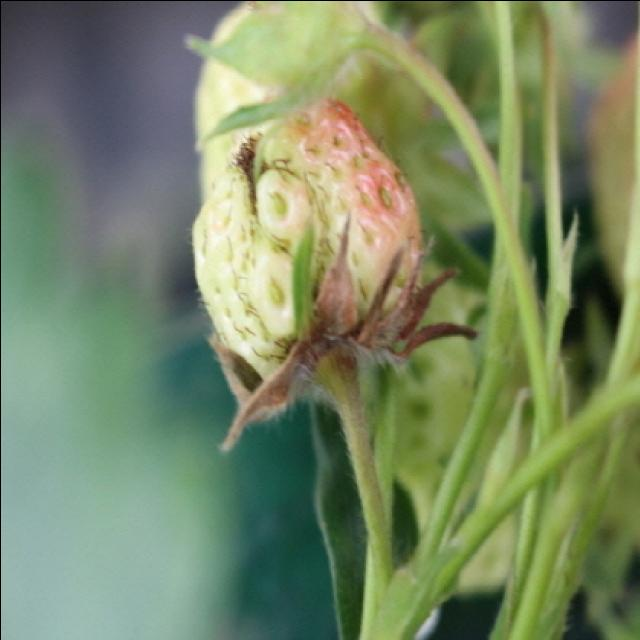Gray Mold: (204, 207, 478, 454)
